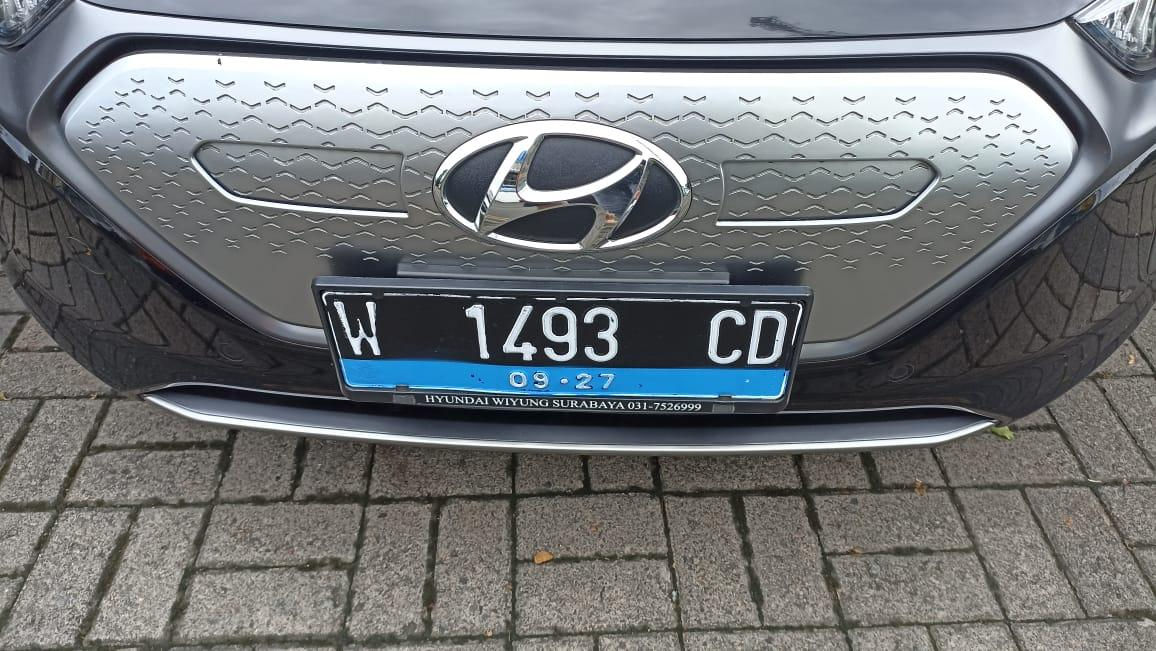plat: (316, 279, 813, 415)
